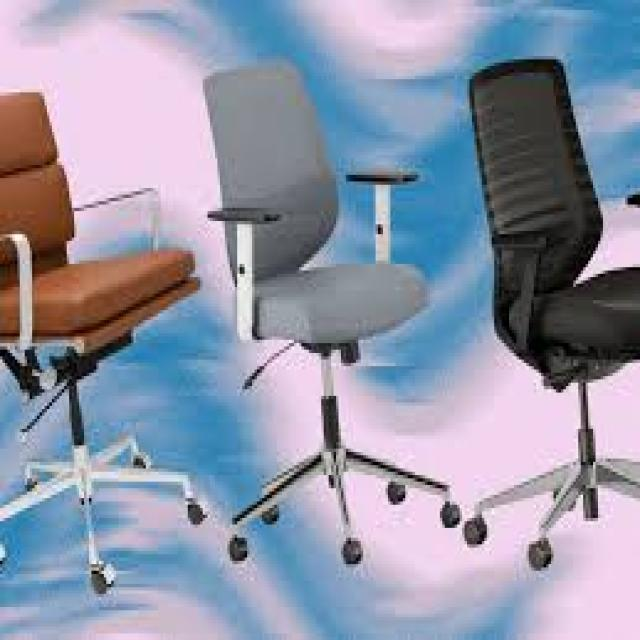chair: (179, 51, 463, 640), (0, 66, 208, 640), (449, 31, 640, 640)
